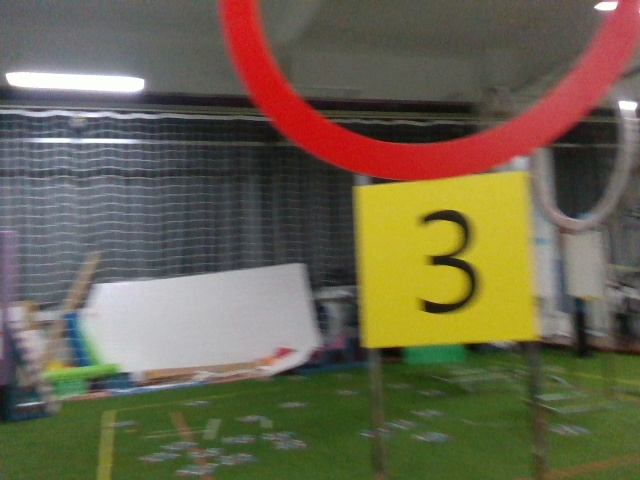target: (359, 182, 527, 339)
